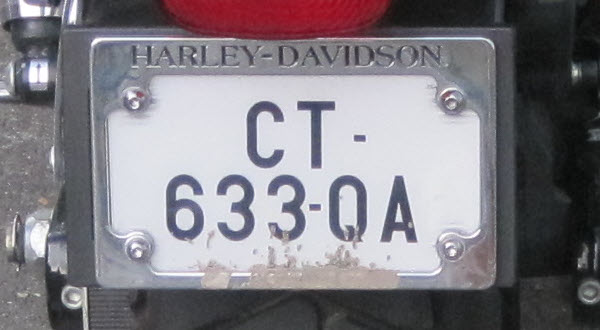license_plate: (91, 36, 498, 290)
